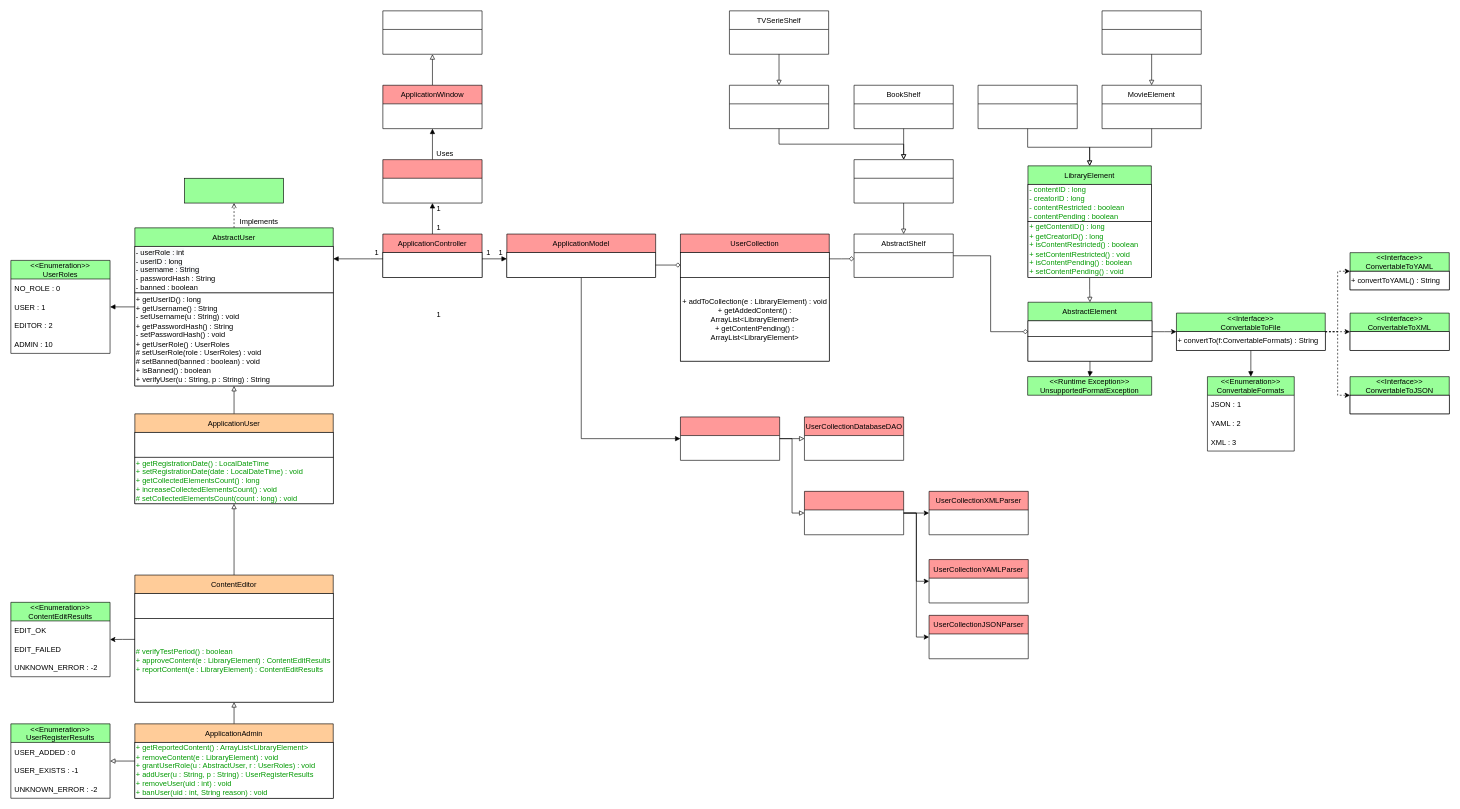
This 1460x809 diagram has some shape labels left out. The centre of each missing label's shape, as x and y in pixels:
+ convertToJSON() : String: the point at 1399,404
+ convertToXML() : String: the point at 1399,340
+ getTitle() : String + setTitle(title : String) : void: the point at 1089,348
- currentUser : AbstractUser: the point at 432,264
- currentUserCollection : UserCollection: the point at 581,264
- editedCount : long - testPeriod : boolean: the point at 233,605
- registrationData : LocalDateTime - collectedElementsCount : long: the point at 233,444
- title : String: the point at 1089,328
- userCollection : ArrayLst<AbstractShelf>: the point at 754,264
<<Interface>> Serializable: the point at 234,190
AbstractUserCollectionDAO: the point at 730,438
ApplicationView: the point at 432,181
BookElement: the point at 1027,107
ElementShelf: the point at 903,181
JFrame: the point at 432,32
MovieShelf: the point at 779,107
TVSerieElement: the point at 1151,32
UserCollectionFileDAO: the point at 854,513
